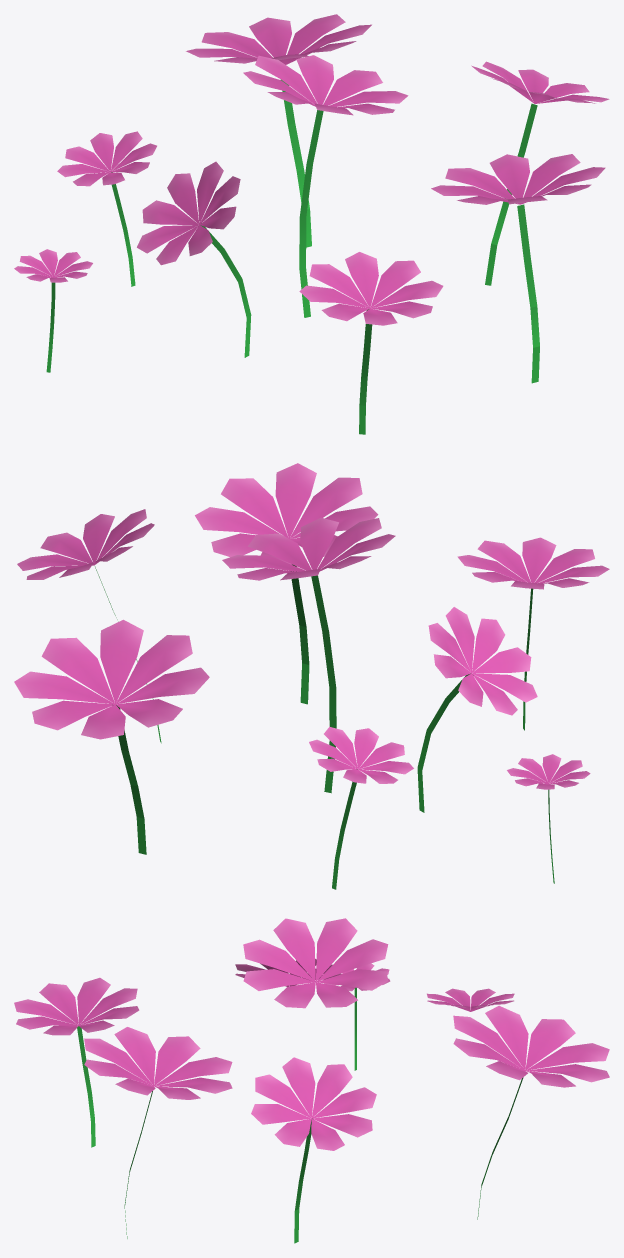
File: SM_Flores01.fbx
3 views of the same model, one above another, from view 1: azimuth 30°, elevation 25°; view 2: azimuth 150°, elevation 25°; view 3: azimuth 270°, elevation 25° (orthographic). The views are drawn at different scales.
Visible parts, largest first — view 1: Plane.025; view 2: Plane.025; view 3: Plane.025.
Boxes of the visible parts, box(x1,y1,x2,y2) form: Plane.025: box(14, 14, 609, 434); Plane.025: box(14, 463, 609, 889); Plane.025: box(14, 918, 609, 1243).
Bounding box in the file's own units: 23.25 × 10.68 × 23.65.
